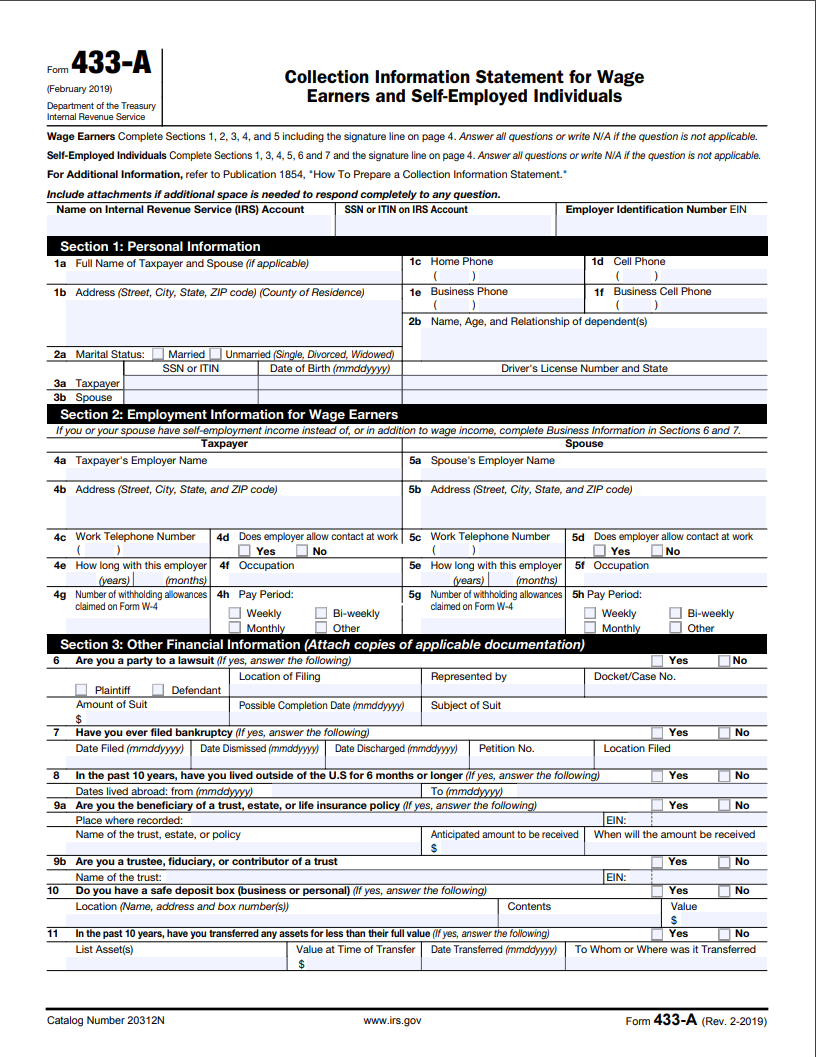checkbox: (590, 539, 611, 559), (646, 541, 667, 561), (149, 679, 169, 699), (580, 601, 600, 621), (579, 615, 599, 635), (666, 601, 686, 621), (666, 615, 686, 635), (647, 649, 667, 669), (713, 650, 733, 670), (648, 722, 668, 742), (714, 723, 734, 743), (647, 766, 667, 786), (714, 766, 734, 786), (648, 794, 668, 814), (714, 796, 734, 816), (648, 851, 668, 871), (715, 853, 735, 873), (647, 882, 667, 902), (713, 881, 733, 901), (715, 923, 735, 943), (649, 925, 669, 945), (149, 343, 168, 362), (206, 345, 225, 364), (236, 541, 255, 560), (292, 541, 311, 560), (226, 604, 244, 620), (226, 618, 244, 634), (312, 604, 330, 620), (313, 618, 331, 634), (73, 683, 91, 699)
textbox: (46, 280, 407, 349), (396, 308, 777, 364), (39, 475, 406, 533), (401, 475, 768, 533), (45, 895, 503, 931), (399, 447, 773, 486), (45, 865, 607, 889), (43, 251, 405, 288), (40, 448, 407, 484), (43, 824, 425, 858), (419, 693, 774, 728), (44, 809, 607, 830), (44, 201, 338, 237), (553, 198, 773, 240), (400, 583, 568, 638), (44, 583, 210, 637), (333, 199, 559, 238), (41, 938, 292, 972), (563, 938, 771, 976), (399, 372, 774, 393), (399, 386, 774, 407), (561, 554, 773, 589), (228, 665, 425, 701), (208, 555, 407, 590), (225, 694, 424, 728), (590, 737, 772, 774), (398, 252, 589, 287), (397, 281, 588, 316), (581, 253, 772, 288), (582, 280, 773, 315), (582, 666, 772, 701), (42, 693, 232, 728), (582, 824, 773, 858), (398, 525, 569, 562), (43, 524, 213, 561), (417, 823, 591, 859), (417, 665, 588, 701), (494, 895, 664, 931), (321, 736, 473, 774), (42, 737, 196, 772), (419, 938, 569, 973), (281, 937, 424, 973), (186, 736, 330, 771), (465, 736, 598, 773), (657, 893, 771, 929), (511, 781, 700, 801), (600, 866, 771, 886), (261, 780, 423, 801), (600, 809, 772, 828), (256, 372, 406, 393), (255, 385, 405, 406), (121, 371, 261, 393), (121, 385, 261, 407)
textline: (69, 570, 98, 588), (421, 570, 450, 588), (132, 568, 161, 586), (485, 570, 514, 588)
